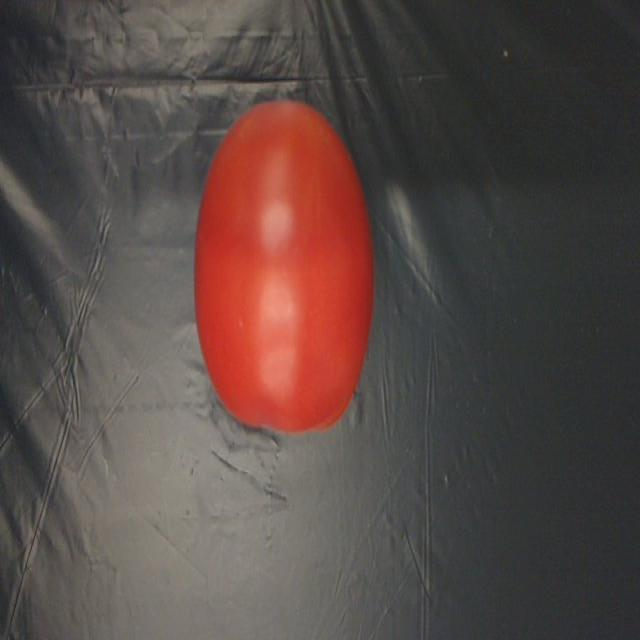kirmizi: (180, 91, 383, 444)
